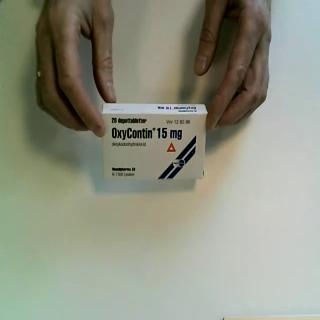oxycontin15mg: (102, 101, 210, 184)
